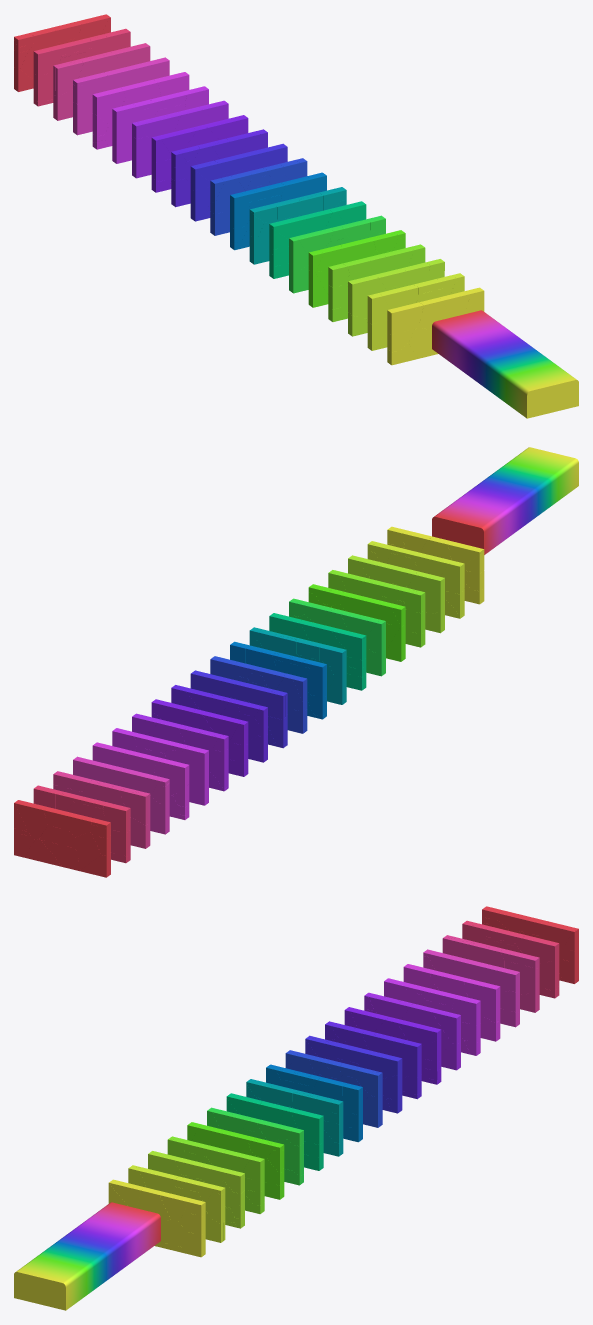
Rendered from COLORFULTEST.fbx.
3 renders of one model, top to bottom at view 1: azimuth 30°, elevation 25°; view 2: azimuth 150°, elevation 25°; view 3: azimuth 330°, elevation 25°, orthographic.
Visible parts, largest first — view 1: Cube, Cube.006_cell.003, Cube.018_cell.010, Cube.005_cell.008, Cube.010_cell.003, Cube.008_cell.001, Cube_cell.014, Cube.011_cell.003, Cube.003_cell.003, Cube.008_cell.017, Cube.005_cell.004, Cube.019_cell (+23 smaller); view 2: Cube, Cube.006_cell.003, Cube.018_cell.010, Cube.005_cell.008, Cube.001_cell.008, Cube.010_cell.003, Cube.008_cell.001, Cube.003_cell, Cube.003_cell.005, Cube.014_cell.012, Cube.001_cell.014, Cube.005_cell.004 (+16 smaller); view 3: Cube, Cube.005_cell.001, Cube.010_cell.003, Cube.014_cell.010, Cube.008_cell.018, Cube.008_cell.001, Cube.006_cell.002, Cube.005_cell.004, Cube_cell.014, Cube.008_cell.017, Cube.003_cell.003, Cube.003_cell.009 (+20 smaller).
Boxes of the visible parts, x1=… form: Cube: x1=432, y1=310, x2=578, y2=418; Cube.006_cell.003: x1=112, y1=103, x2=139, y2=163; Cube.018_cell.010: x1=348, y1=275, x2=385, y2=318; Cube.005_cell.008: x1=92, y1=87, x2=125, y2=124; Cube.010_cell.003: x1=246, y1=143, x2=287, y2=170; Cube.008_cell.001: x1=202, y1=115, x2=248, y2=139; Cube_cell.014: x1=418, y1=297, x2=451, y2=330; Cube.011_cell.003: x1=210, y1=176, x2=244, y2=213; Cube.003_cell.003: x1=78, y1=53, x2=119, y2=78; Cube.008_cell.017: x1=139, y1=113, x2=180, y2=139; Cube.005_cell.004: x1=121, y1=79, x2=160, y2=103; Cube.019_cell: x1=380, y1=284, x2=418, y2=309; Cube: x1=432, y1=447, x2=578, y2=554; Cube.006_cell.003: x1=181, y1=745, x2=208, y2=805; Cube.018_cell.010: x1=407, y1=571, x2=444, y2=614; Cube.005_cell.008: x1=154, y1=758, x2=189, y2=795; Cube.001_cell.008: x1=15, y1=800, x2=47, y2=839; Cube.010_cell.003: x1=190, y1=670, x2=233, y2=697; Cube.008_cell.001: x1=151, y1=699, x2=195, y2=724; Cube.003_cell: x1=83, y1=781, x2=124, y2=806; Cube.003_cell.005: x1=120, y1=789, x2=147, y2=825; Cube.014_cell.012: x1=301, y1=621, x2=345, y2=649; Cube.001_cell.014: x1=75, y1=832, x2=101, y2=869; Cube.005_cell.004: x1=121, y1=750, x2=162, y2=773; Cube: x1=14, y1=1202, x2=160, y2=1310; Cube.005_cell.001: x1=464, y1=978, x2=500, y2=1023; Cube.010_cell.003: x1=358, y1=1049, x2=402, y2=1078; Cube.014_cell.010: x1=290, y1=1108, x2=323, y2=1144; Cube.008_cell.018: x1=402, y1=1004, x2=451, y2=1053; Cube.008_cell.001: x1=397, y1=1019, x2=441, y2=1046; Cube.006_cell.002: x1=452, y1=995, x2=480, y2=1025; Cube.005_cell.004: x1=430, y1=970, x2=467, y2=997; Cube_cell.014: x1=136, y1=1187, x2=170, y2=1222; Cube.008_cell.017: x1=368, y1=994, x2=412, y2=1019; Cube.003_cell.003: x1=464, y1=943, x2=504, y2=967; Cube.003_cell.009: x1=504, y1=961, x2=539, y2=994.
Bounding box in the file's own units: 506 × 277 × 4671.
1 material, 1 textured.
